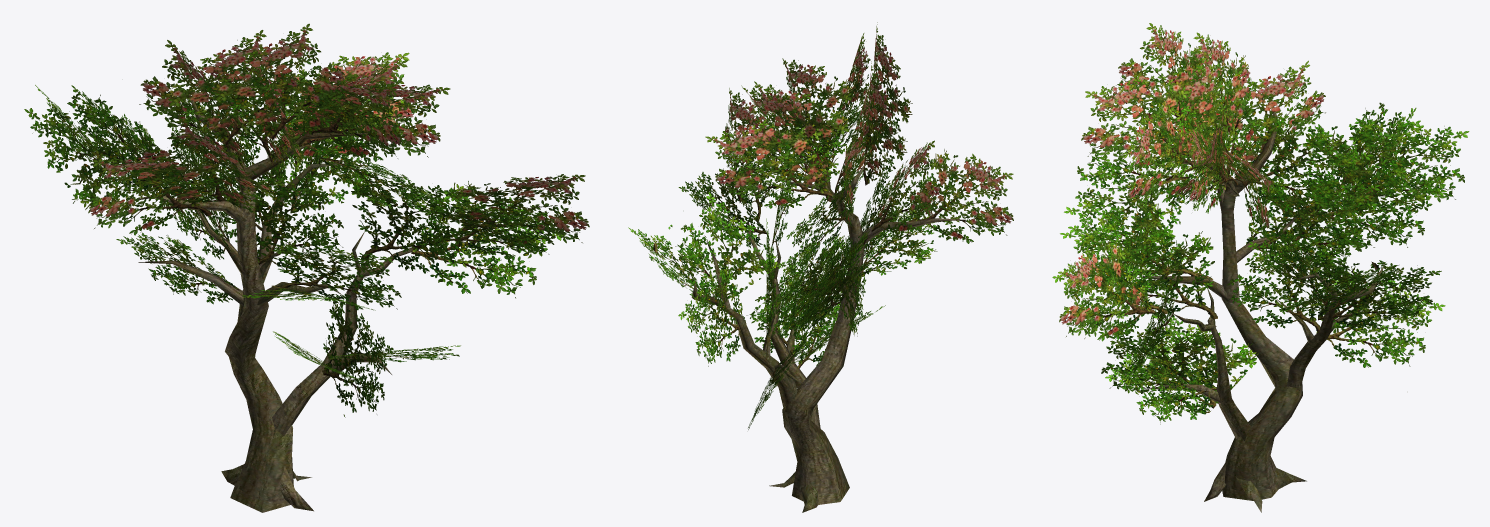
File: SC001Jzhiwu_30.FBX
The picture shows the model from 3 angles, left to right: view 1: azimuth 30°, elevation 25°; view 2: azimuth 150°, elevation 25°; view 3: azimuth 270°, elevation 25°; orthographic projection. The views are drawn at different scales.
Visible parts, largest first — view 1: SC001Jzhiwu_30 (×2); view 2: SC001Jzhiwu_30 (×2); view 3: SC001Jzhiwu_30 (×2).
Boxes of the visible parts, x1,y1,x2,y2 form: SC001Jzhiwu_30 (×2): [24, 23, 589, 512]; SC001Jzhiwu_30 (×2): [628, 22, 1013, 512]; SC001Jzhiwu_30 (×2): [1052, 23, 1469, 512].
Size of the model in its own units: 9.79 by 11.07 by 9.13.
